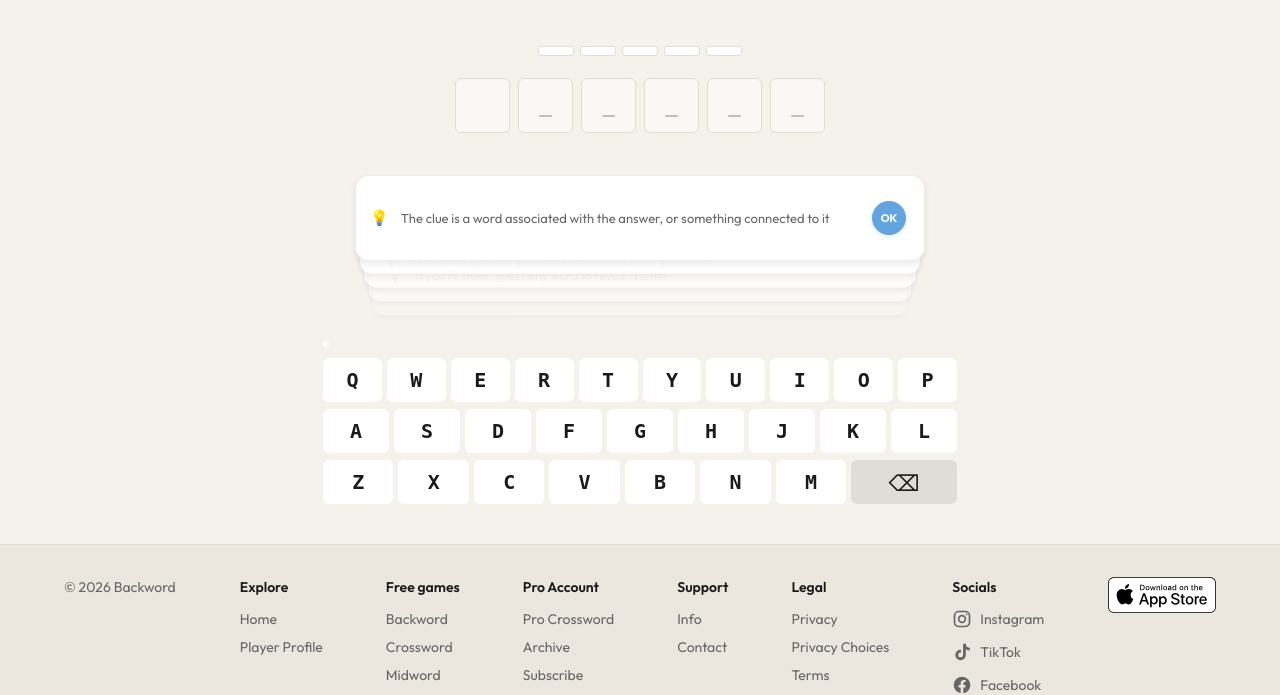
Backword browser game › expands and collapses the shared Submit control above the keyboard as input changes
(page scrolled)
Expected: the button "Submit" is not shown
Type keys "CASTLE"
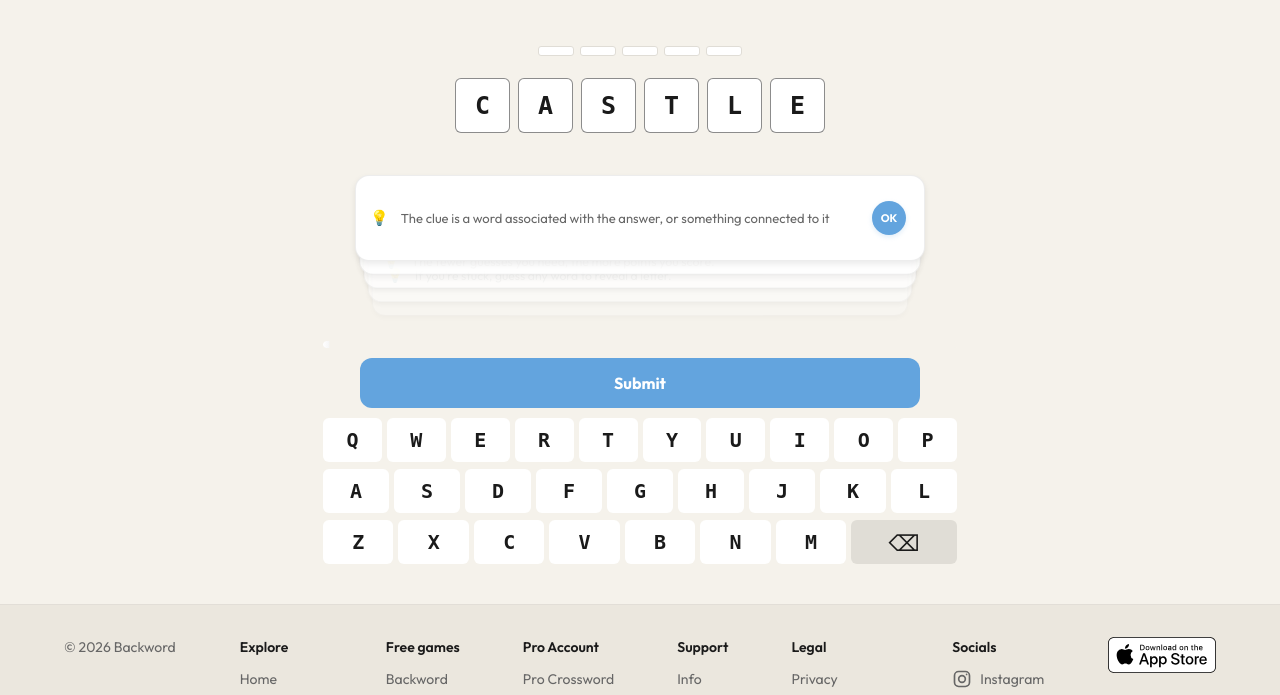
Press Backspace
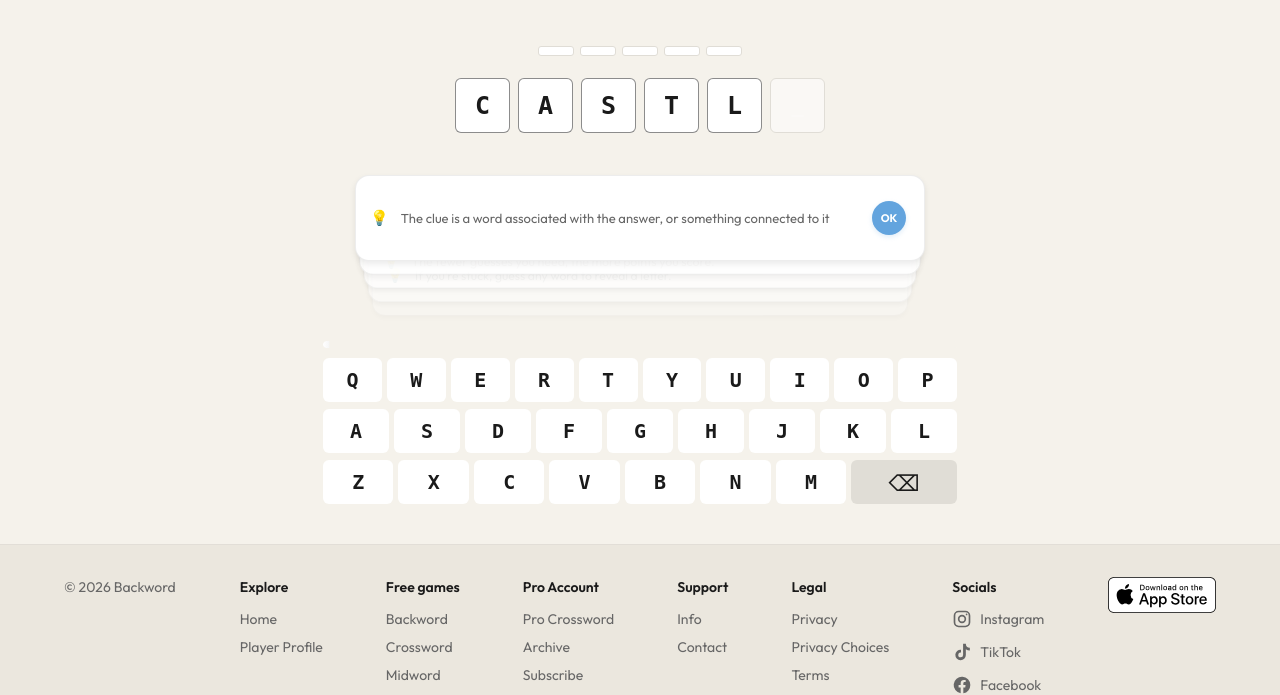
Expected: the button "Submit" is gone
Type keys "E"
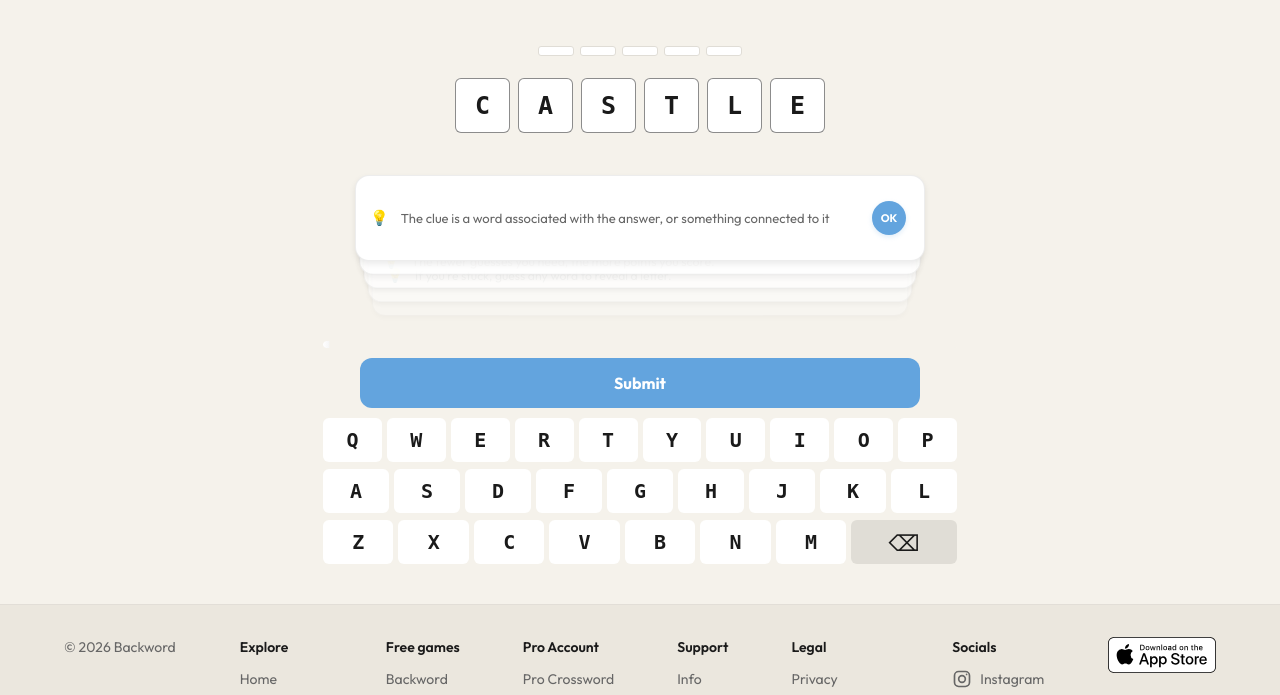
Click the button "Submit".
click(640, 383)  # box [360,358,920,408]
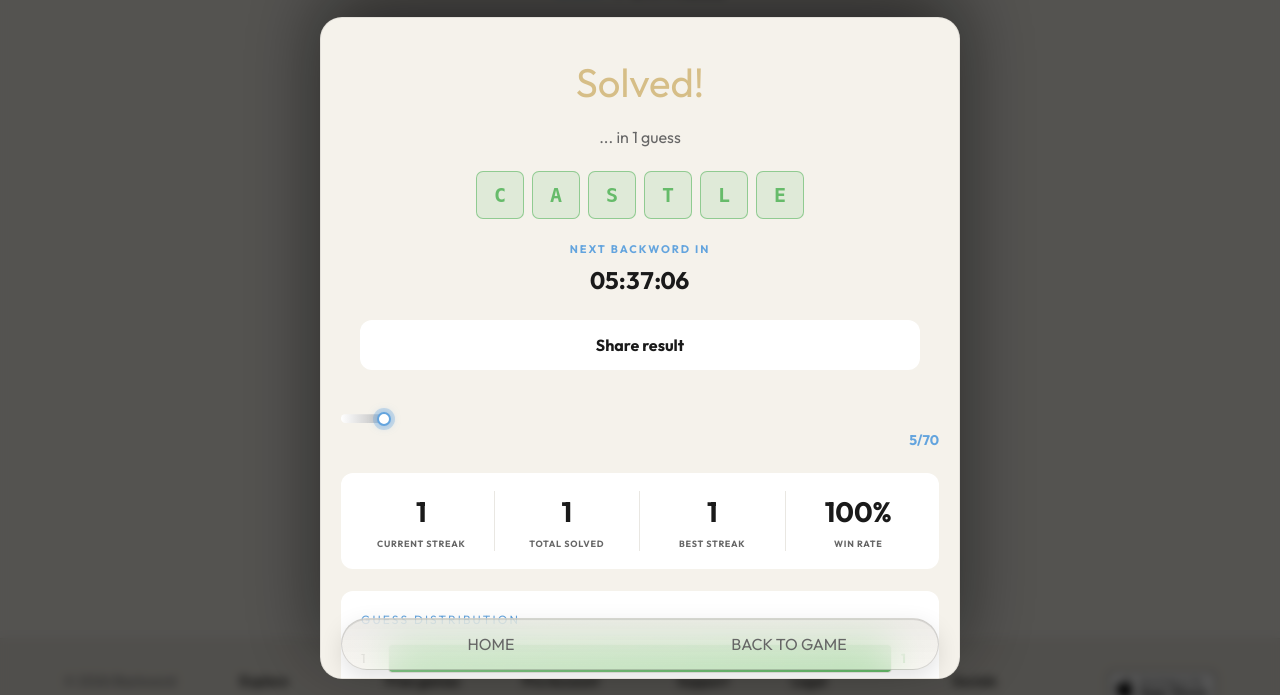
Expected: the dialog "Solved!" is shown, [320,17,960,679]
